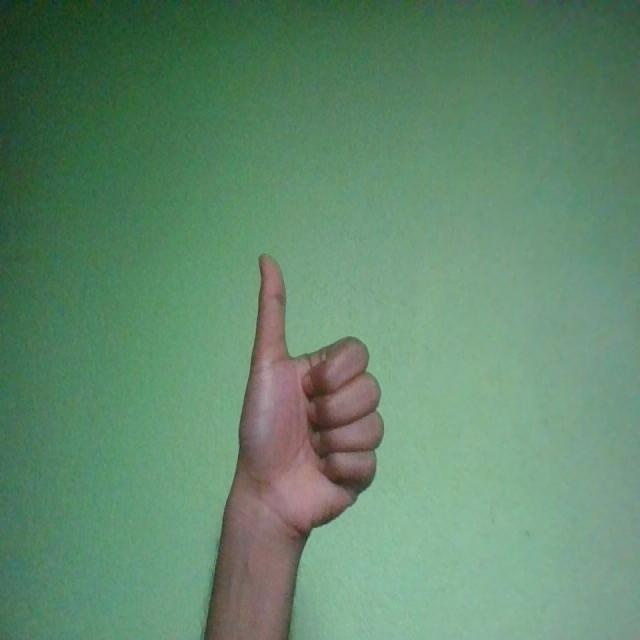Good Job: (237, 254, 386, 542)
